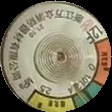green: (72, 83, 104, 110)
needle: (69, 78, 89, 105)
red: (95, 38, 112, 89)
yellow: (30, 92, 76, 112)
